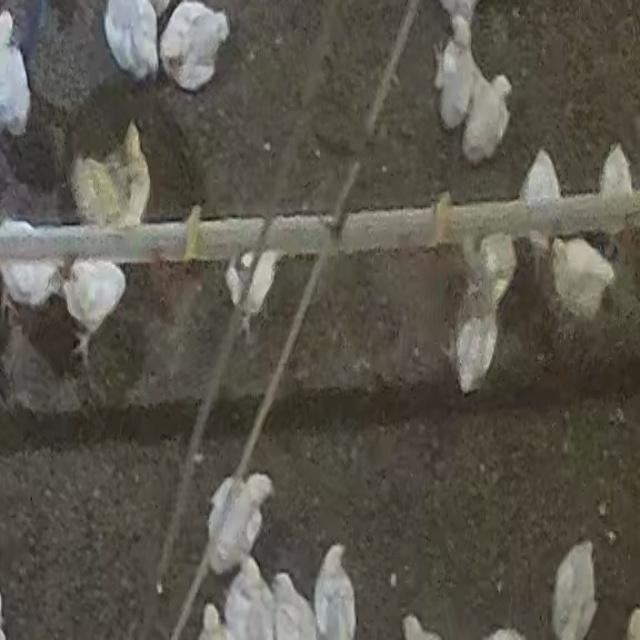chicken: (206, 469, 272, 576), (160, 2, 229, 93), (62, 258, 128, 352), (0, 222, 62, 315), (550, 236, 614, 321), (462, 62, 514, 162), (519, 148, 561, 254), (552, 542, 597, 640), (107, 0, 162, 80), (453, 304, 500, 394), (313, 544, 357, 640), (436, 20, 473, 124), (226, 245, 278, 318), (72, 156, 122, 227), (120, 123, 152, 224), (478, 232, 518, 311)
